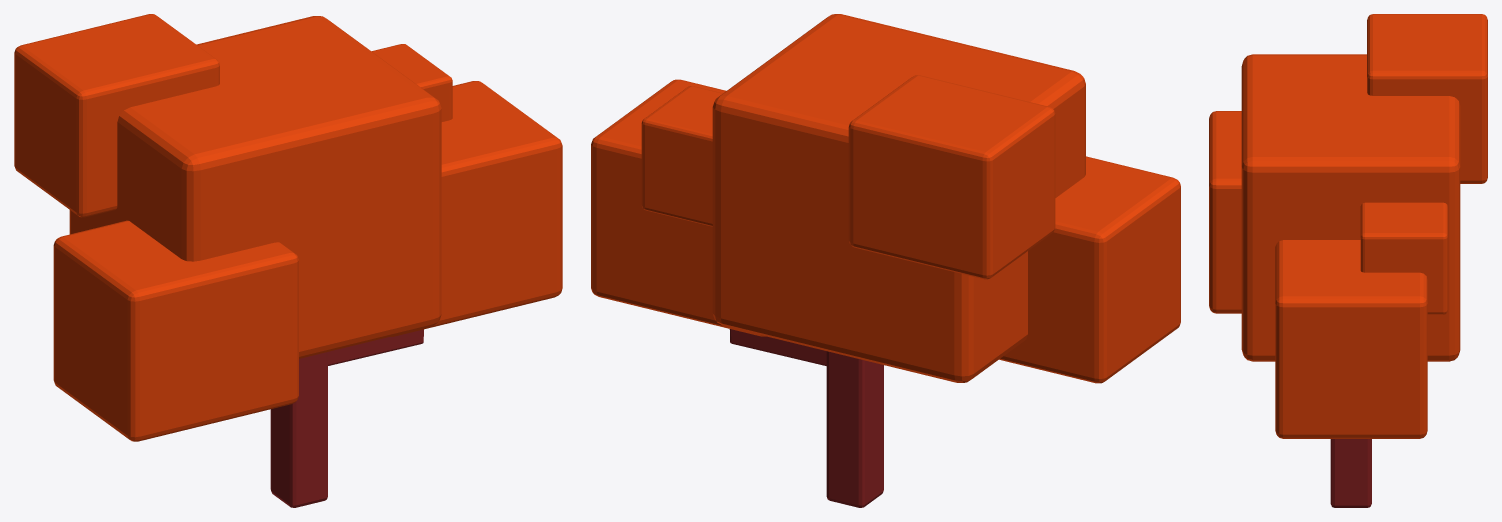
The model's file is tree1.fbx.
3 views of the same model, side by side, from view 1: azimuth 30°, elevation 25°; view 2: azimuth 150°, elevation 25°; view 3: azimuth 270°, elevation 25° (orthographic). The views are drawn at different scales.
Visible parts, largest first — view 1: Cube.011, Cube.008; view 2: Cube.011, Cube.008; view 3: Cube.011, Cube.008.
Part boxes in pixels (x1,y1,x2,y2): Cube.011: (14, 14, 562, 441); Cube.008: (270, 329, 423, 507); Cube.011: (591, 14, 1180, 383); Cube.008: (729, 329, 883, 507); Cube.011: (1209, 14, 1487, 438); Cube.008: (1330, 439, 1371, 507).
Size of the model in its own units: 1139 by 1033 by 656.
2 materials, 2 textured.
